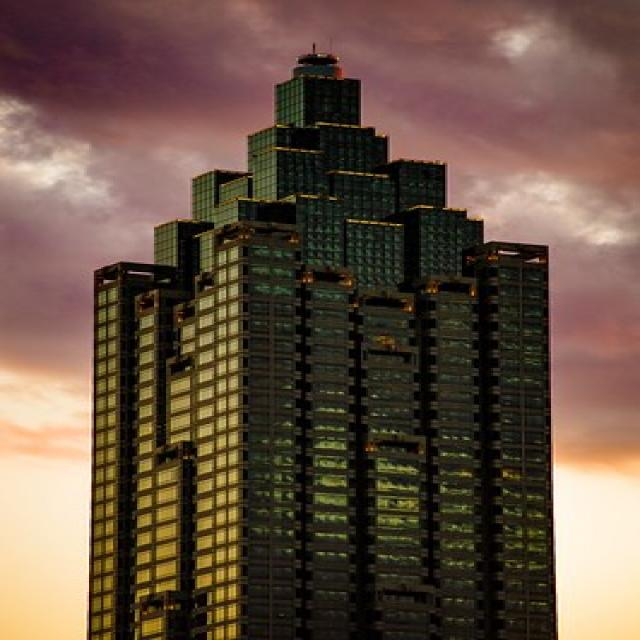Normal_building: (89, 35, 558, 640)
